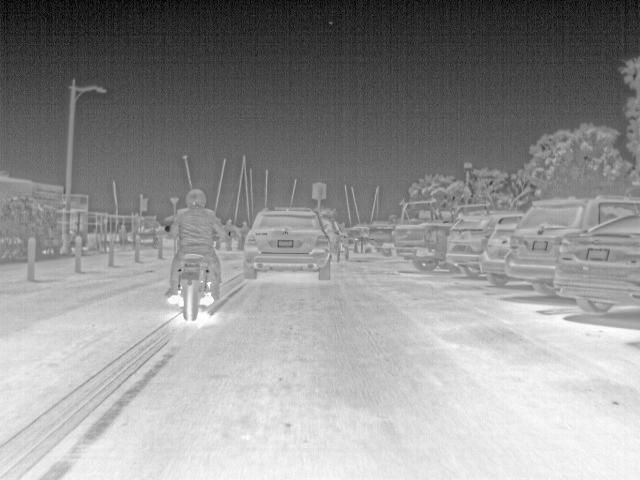car: (507, 195, 638, 299), (552, 210, 637, 318), (396, 204, 508, 274), (245, 206, 331, 282), (445, 210, 521, 284), (479, 212, 527, 288), (322, 220, 342, 262), (365, 226, 396, 248)
person: (160, 190, 226, 313)
